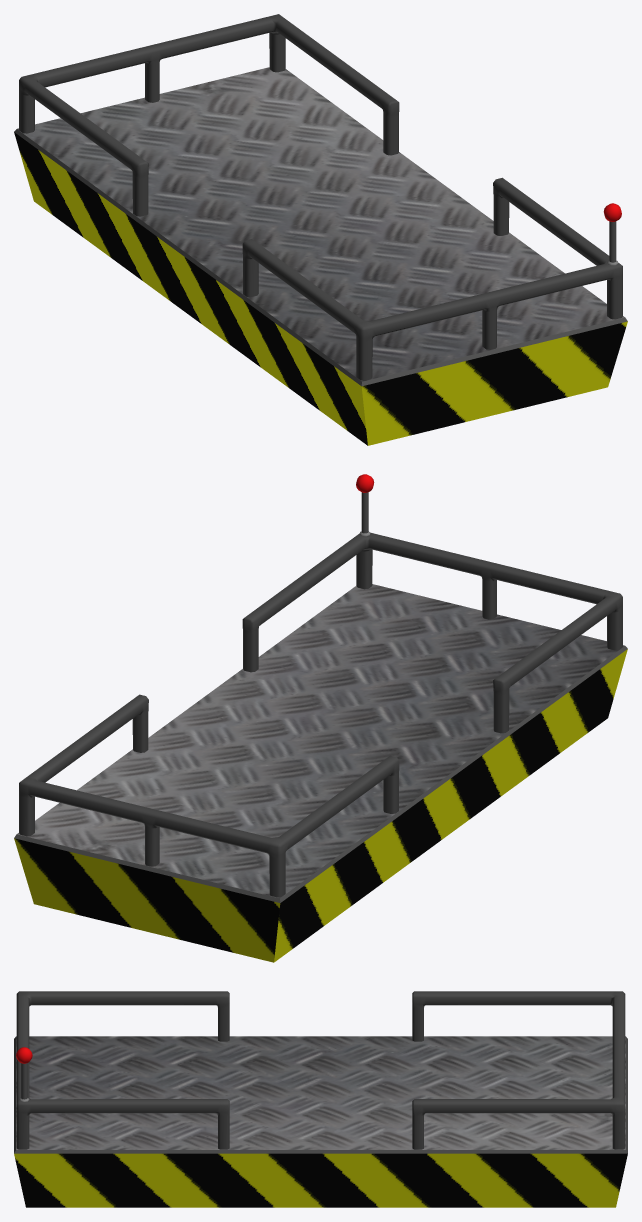
File: StageParts_MoveStand_model.fbx
The picture shows the model from 3 angles, top to bottom: view 1: azimuth 30°, elevation 25°; view 2: azimuth 150°, elevation 25°; view 3: azimuth 270°, elevation 25°; orthographic projection. The views are drawn at different scales.
Visible parts, largest first — view 1: MoveStand; view 2: MoveStand; view 3: MoveStand.
Boxes of the visible parts, <box> form: MoveStand: <box>14,14,627,445</box>; MoveStand: <box>14,474,627,962</box>; MoveStand: <box>14,991,627,1207</box>.
Bounding box in the file's own units: 199 × 131 × 450.
